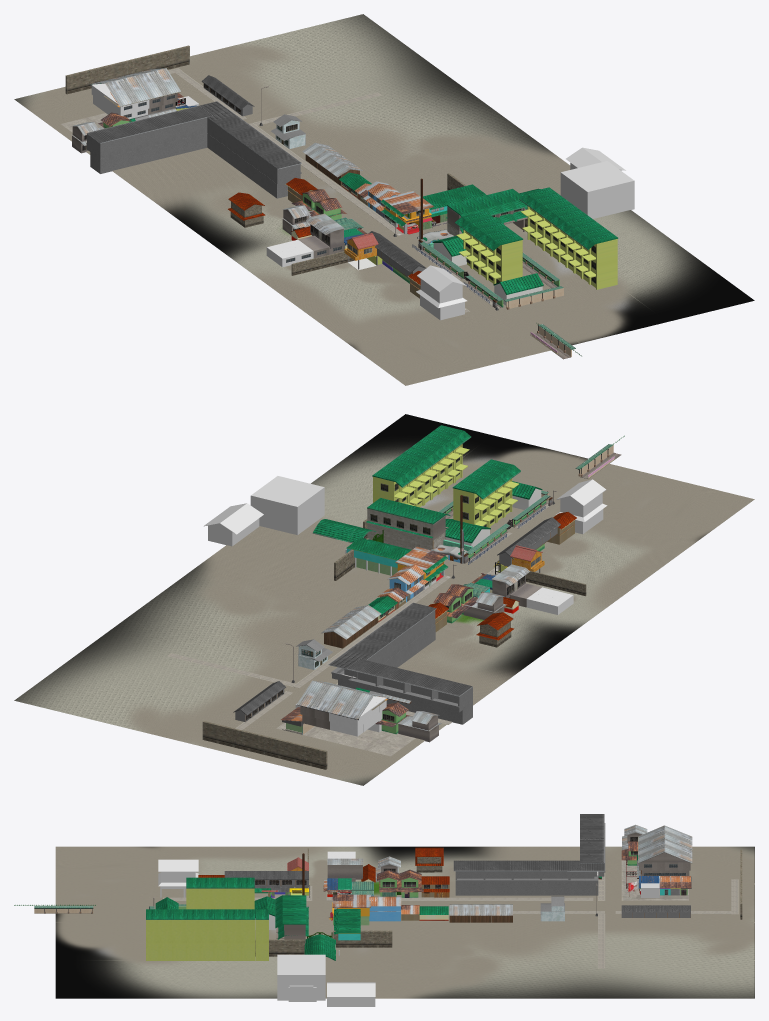
The model's file is map tinrose.fbx.
The picture shows the model from 3 angles, top to bottom: view 1: azimuth 30°, elevation 25°; view 2: azimuth 150°, elevation 25°; view 3: azimuth 270°, elevation 25°; orthographic projection. The views are drawn at different scales.
Parts seen in each view (by area): view 1: Plane, Cube.036, Cube.021, Cube.008, Cube.032, Cube.086, Cube.031, Cube.007, Cube.003, Cube.071, Cube.046, house.001 (+18 smaller); view 2: Plane, Cube.036, Cube.021, Cube.032, Cube.086, Cube.008, Cube.007, Cube.031, Cube.071, Cube.003, Cube.063, house (+22 smaller); view 3: Plane, Cube.036, Cube.008, Cube.032, Cube.086, Cube.071, Cube.007, Cube.021, house, house.001, SeguerraStore.003, Cube.003 (+27 smaller).
Part boxes in pixels (<box>): Plane: <box>14,14,754,385</box>; Cube.036: <box>519,187,618,289</box>; Cube.021: <box>86,105,212,173</box>; Cube.008: <box>213,115,301,198</box>; Cube.032: <box>455,211,523,284</box>; Cube.086: <box>560,161,634,218</box>; Cube.031: <box>65,45,189,94</box>; Cube.007: <box>446,188,527,236</box>; Cube.003: <box>416,265,467,320</box>; Cube.071: <box>90,68,181,107</box>; Cube.046: <box>266,235,344,267</box>; house.001: <box>302,142,362,186</box>; Plane: <box>14,414,754,785</box>; Cube.036: <box>372,425,471,507</box>; Cube.021: <box>347,659,472,724</box>; Cube.032: <box>452,459,520,527</box>; Cube.086: <box>250,476,324,534</box>; Cube.008: <box>348,602,436,667</box>; Cube.007: <box>366,498,450,550</box>; Cube.031: <box>202,721,327,769</box>; Cube.071: <box>296,680,388,720</box>; Cube.003: <box>556,479,607,534</box>; Cube.063: <box>276,722,415,756</box>; house: <box>203,503,263,546</box>; Plane: <box>55,846,754,998</box>; Cube.036: <box>146,909,268,960</box>; Cube.008: <box>453,860,569,895</box>; Cube.032: <box>186,877,254,909</box>; Cube.086: <box>277,954,325,1000</box>; Cube.071: <box>638,825,692,863</box>; Cube.007: <box>275,895,308,943</box>; Cube.021: <box>580,814,605,876</box>; house: <box>327,982,375,1006</box>; house.001: <box>449,904,512,922</box>; SeguerraStore.003: <box>224,871,308,888</box>; Cube.003: <box>158,859,198,897</box>.
Size of the model in its own units: 1640 by 278 by 3068.
